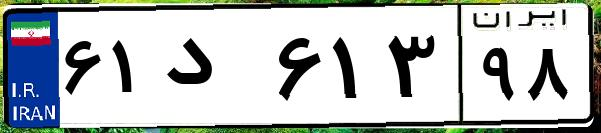1: (330, 28, 385, 110), (110, 28, 158, 98)
3: (385, 28, 445, 110)
6: (270, 28, 330, 110), (57, 26, 110, 100)
8: (525, 38, 570, 115)
9: (475, 38, 525, 113)
د: (158, 20, 270, 120)
